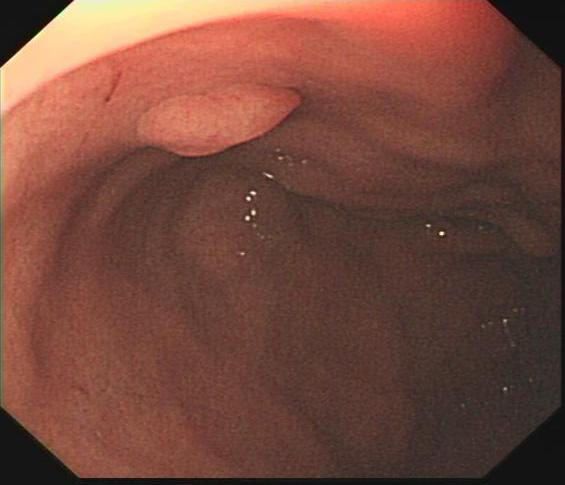Polyp: (133, 81, 306, 160)
